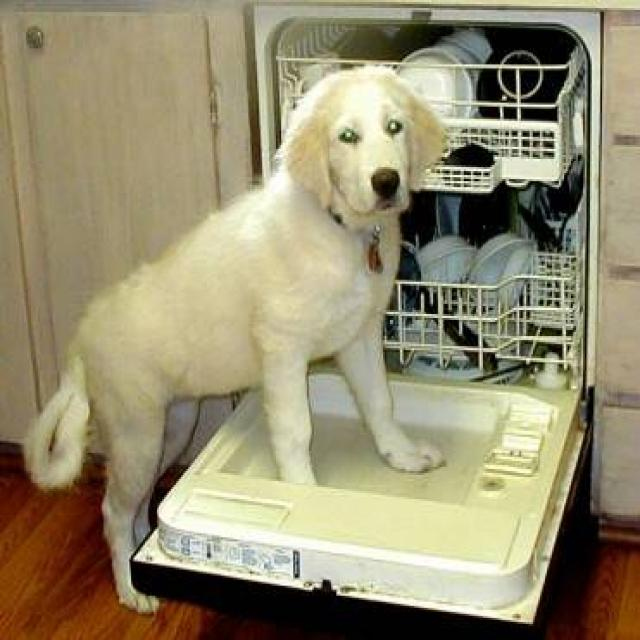dog: (21, 64, 448, 614)
